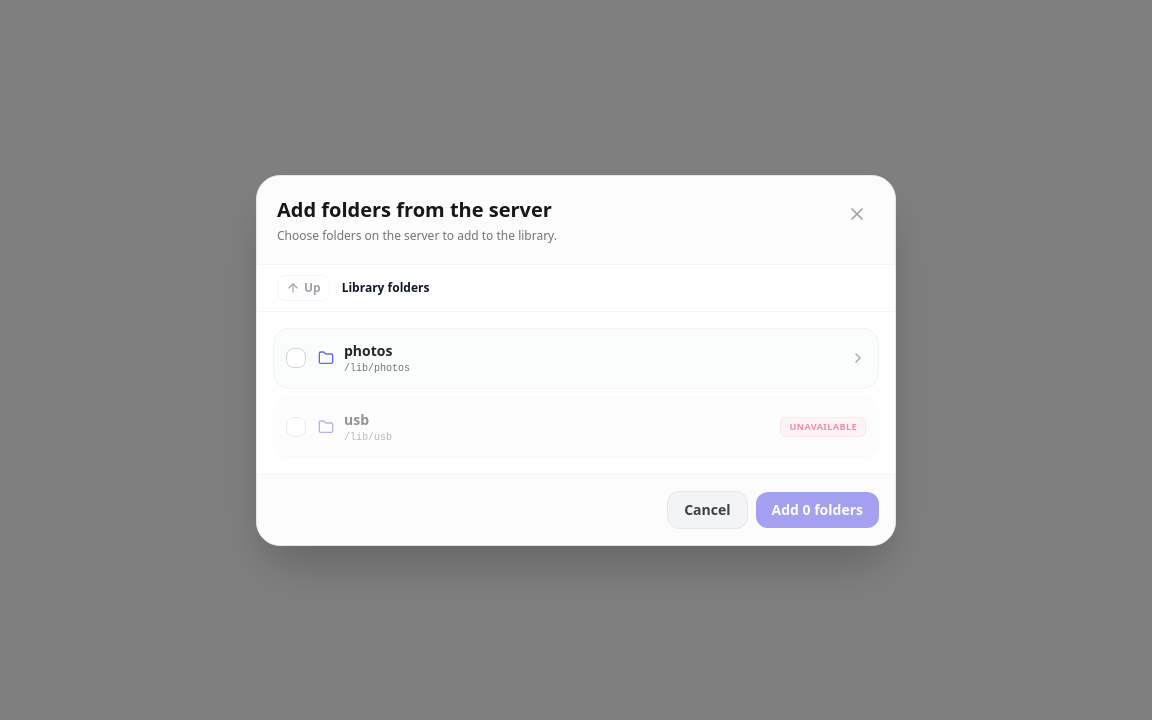
Scenario: FolderPickerModal › opens a folder, marks the indexed ones and shows the breadcrumb
What coordinates should you click on to do the following:
click the button with aria-label "Open photos"
I would click on:
 (368, 350)
Its box is [318,340,866,376].
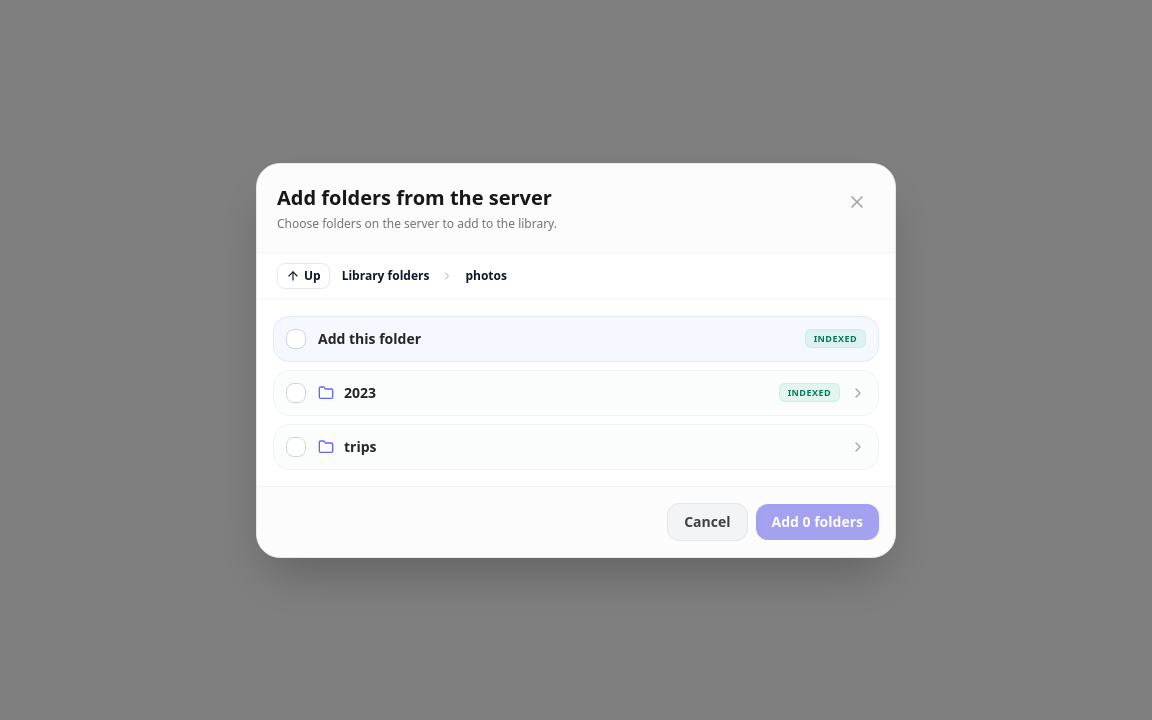
Expected: the button with aria-label "Open trips" is shown
Expected: the button with aria-label "Open 2023" is shown, [318,382,866,402]
Expected: the text "Indexed" is shown 2 times, [805,329,866,348]; [779,383,840,402]
What coordinates should you click on to do the following:
click the button with aria-label "Open trips"
I would click on:
 (360, 446)
Its box is [318,436,866,456].
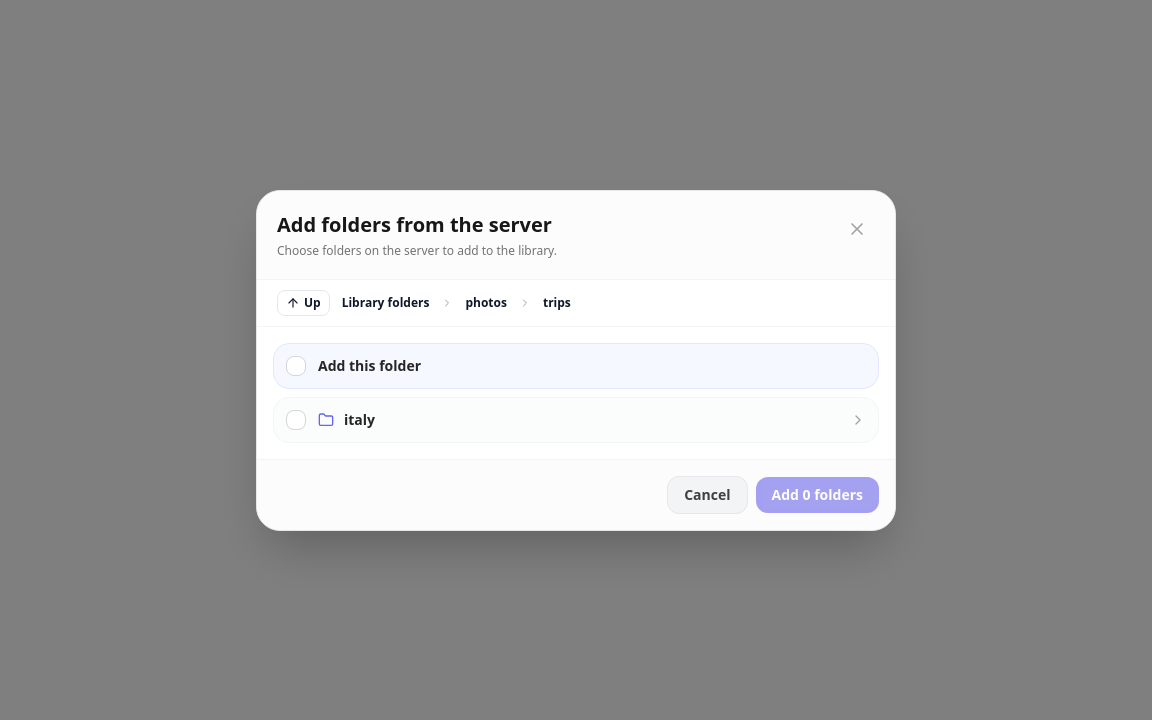
Expected: the navigation bar shows "photos", [459,290,513,314]
Expected: the button with aria-label "Open italy" is shown, [318,410,866,430]
Expected: the navigation bar shows "trips", [543,294,571,310]
